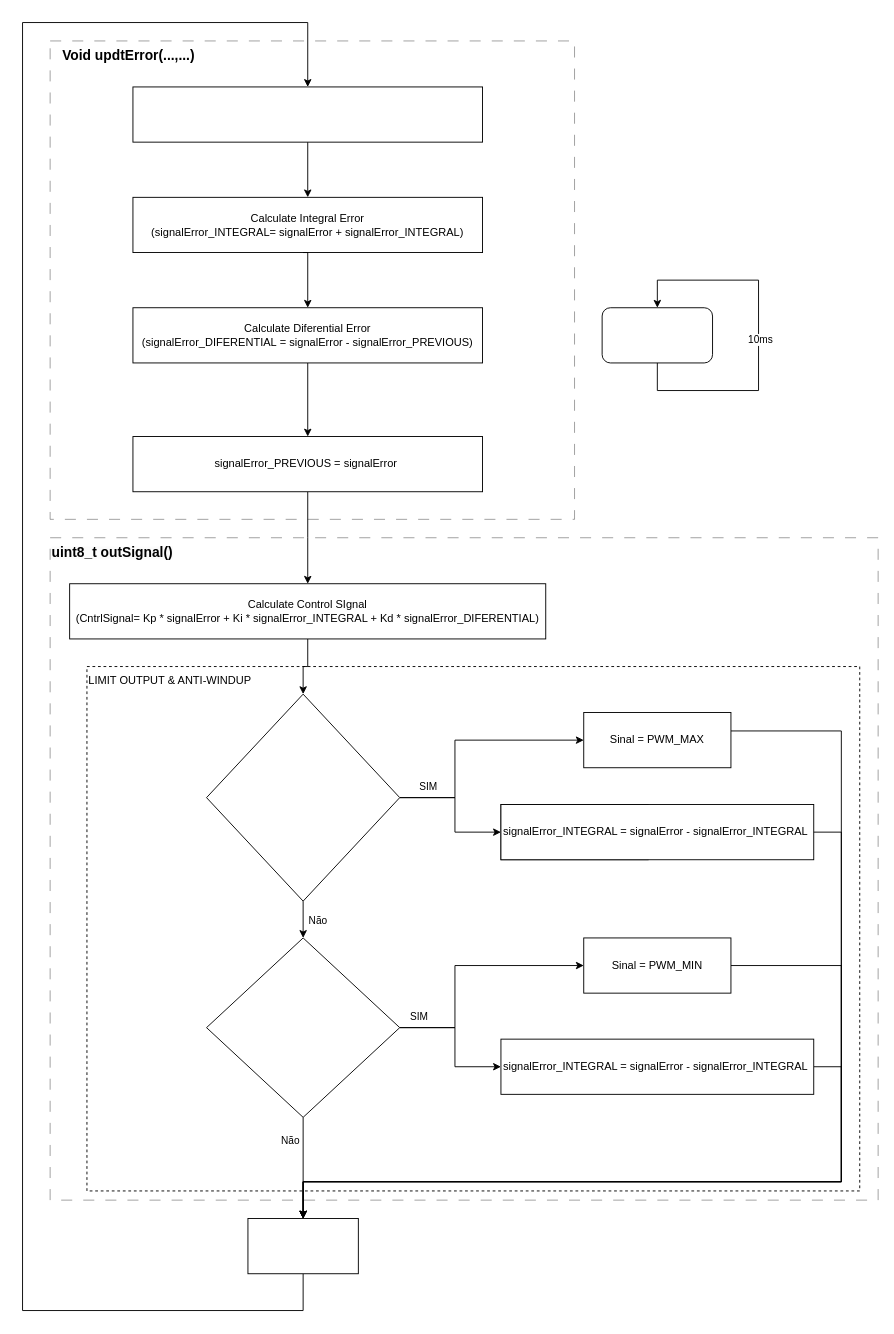
Some shapes in this 894 by 1334 pixel diagram are drawn without their labels. Here are the shapes that lost their labels. From the top down, the box of each, then its label:
(132, 86, 483, 142): Calculate Error (signalError = Setpoint - valueNow)
(601, 307, 713, 363): Aquisição de dados Feedback
(206, 693, 400, 901): CntrlSignal > MAX_SIGNAL_VALUE ?
(206, 937, 400, 1117): CntrlSignal < MIN_SIGNAL_VALUE ?
(247, 1218, 358, 1274): Controlo
